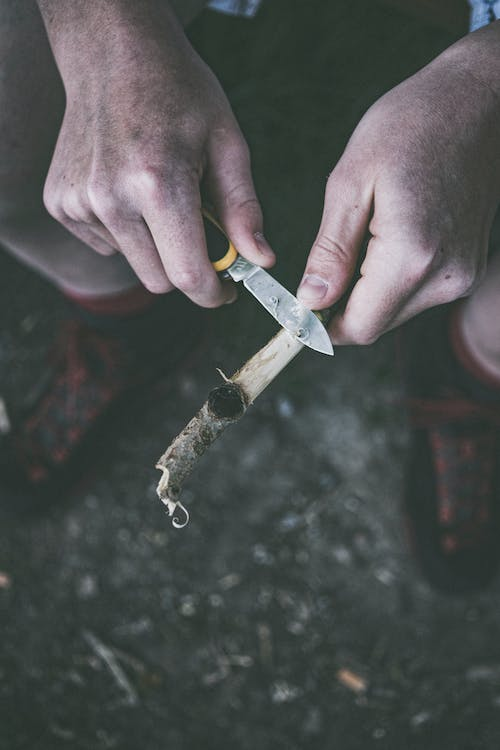knife: (196, 201, 340, 364)
